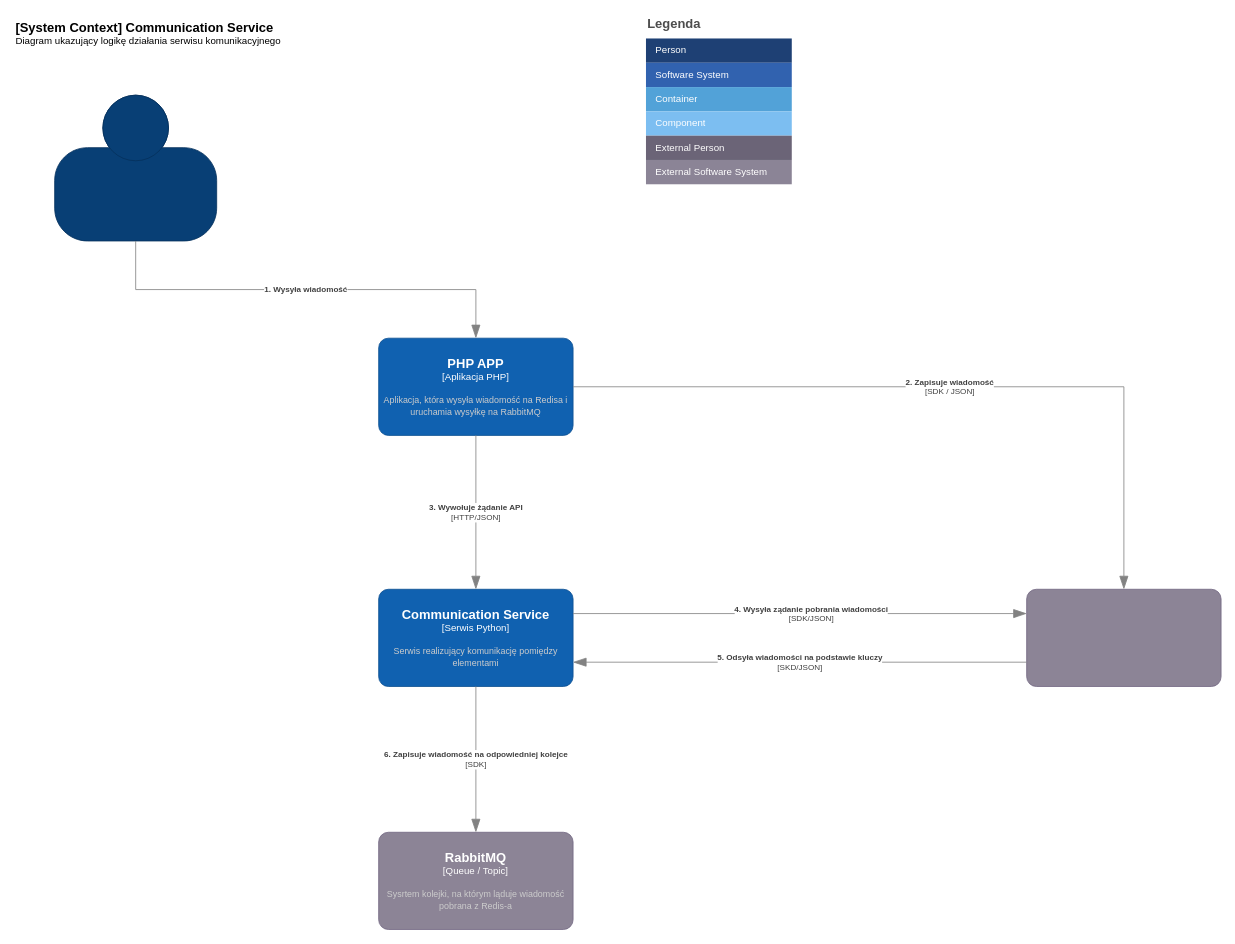
This 1235x944 diagram has some shape labels left out. The centre of each missing label's shape, as x and y in pixels:
"Redis [State Management / Cache] Narzędzie do przechowywania stanu, cache." goes at pixel 1123 637.
"Użytkownik systemu [Osoba] Użytkownik systemu wysyłającego" goes at pixel 135 167.
